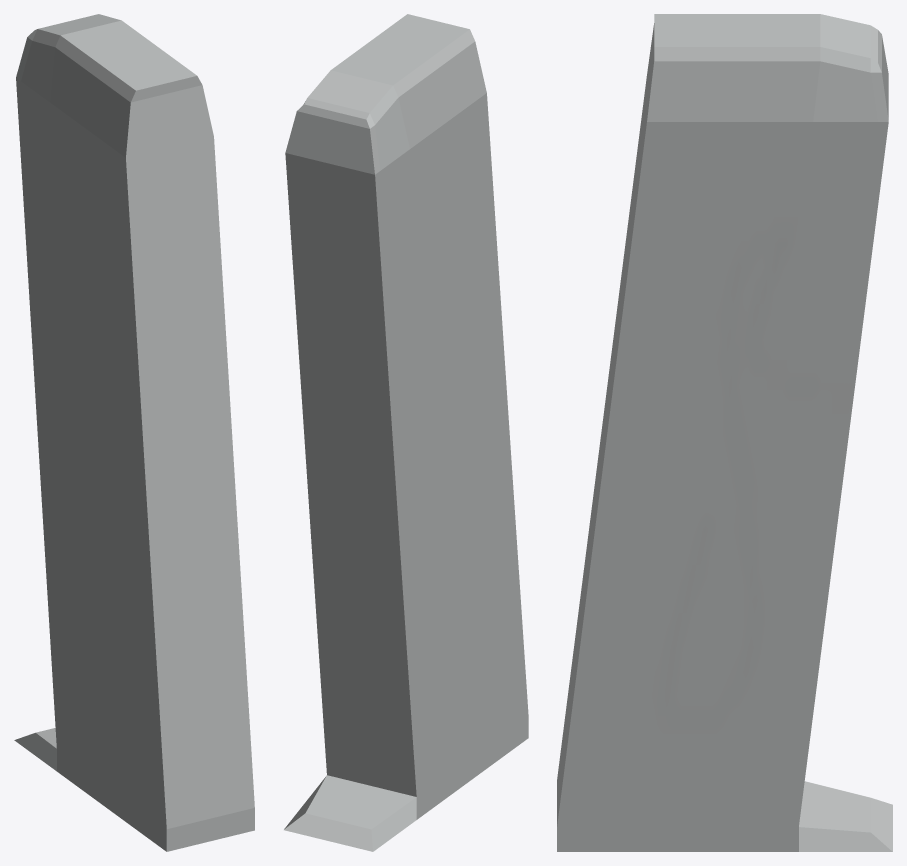
The model's file is magazine_pm.fbx.
The picture shows the model from 3 angles, left to right: view 1: azimuth 30°, elevation 25°; view 2: azimuth 150°, elevation 25°; view 3: azimuth 270°, elevation 25°; orthographic projection. The views are drawn at different scales.
Parts seen in each view (by area): view 1: magazine_pm; view 2: magazine_pm; view 3: magazine_pm.
Boxes of the visible parts, x1,y1,x2,y2 form: magazine_pm: (14, 14, 254, 851); magazine_pm: (284, 14, 528, 851); magazine_pm: (557, 14, 892, 851).
Size of the model in its own units: 92.55 by 728 by 278.
Materials: 1 (1 with a texture image).
